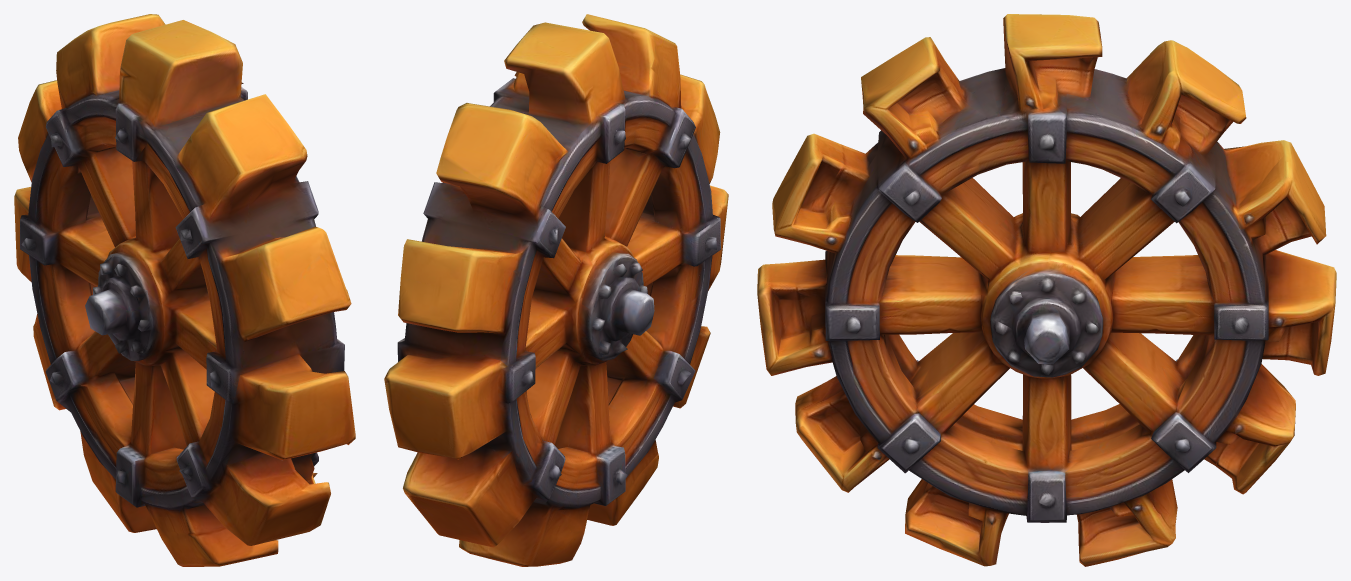
The model's file is p_wheel.glb.
3 renders of one model, left to right at view 1: azimuth 30°, elevation 25°; view 2: azimuth 150°, elevation 25°; view 3: azimuth 270°, elevation 25°, orthographic. The views are drawn at different scales.
Parts seen in each view (by area): view 1: tripo_node_f4bbd09a-0d47-4068-90c8-7e77f754b759; view 2: tripo_node_f4bbd09a-0d47-4068-90c8-7e77f754b759; view 3: tripo_node_f4bbd09a-0d47-4068-90c8-7e77f754b759.
Boxes of the visible parts, x1,y1,x2,y2 form: tripo_node_f4bbd09a-0d47-4068-90c8-7e77f754b759: (14, 14, 355, 566); tripo_node_f4bbd09a-0d47-4068-90c8-7e77f754b759: (384, 14, 728, 566); tripo_node_f4bbd09a-0d47-4068-90c8-7e77f754b759: (757, 14, 1336, 566).
Size of the model in its own units: 0.3921 by 1 by 0.999.
Materials: 1 (1 with a texture image).
